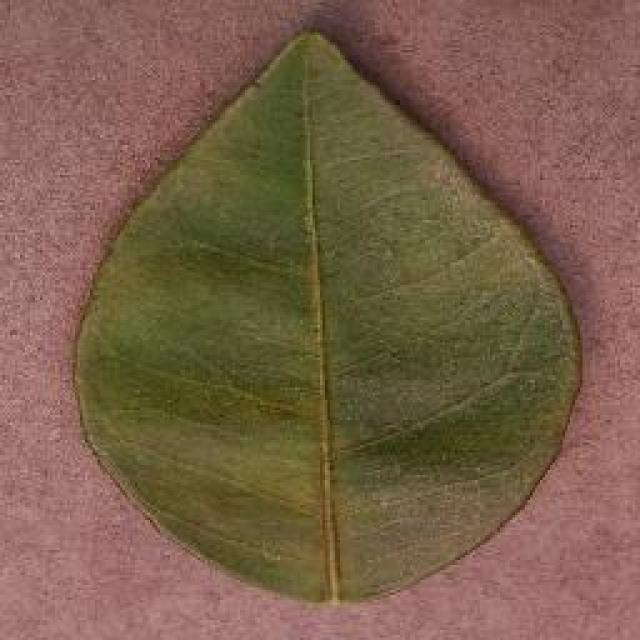Orange_Haunglongbing_Citrus_greening: (131, 135, 531, 534)
